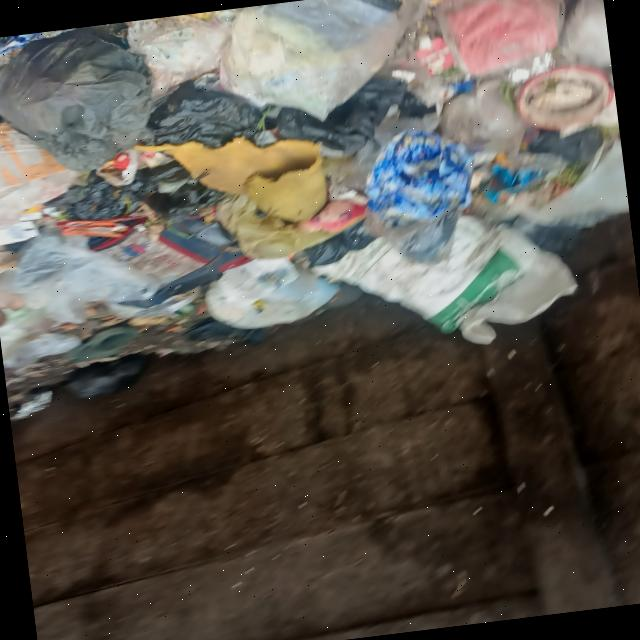garbage: (0, 0, 638, 409)
